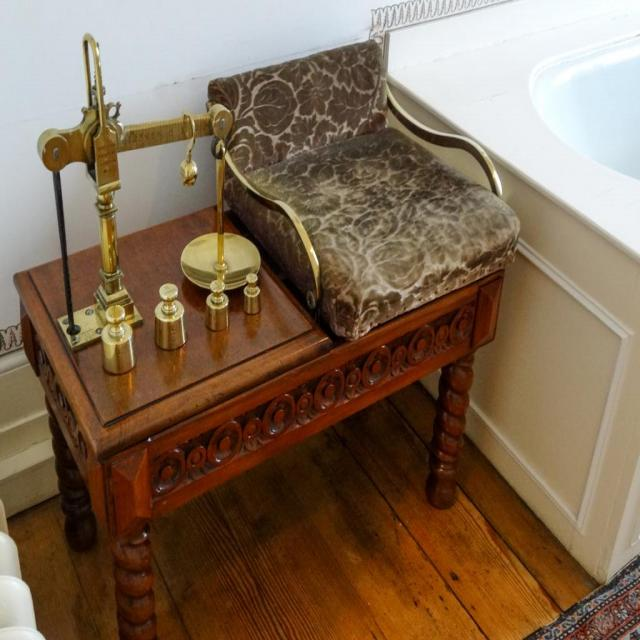table: (11, 268, 511, 640)
